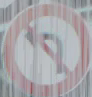Don't turn left: (8, 7, 82, 81)
